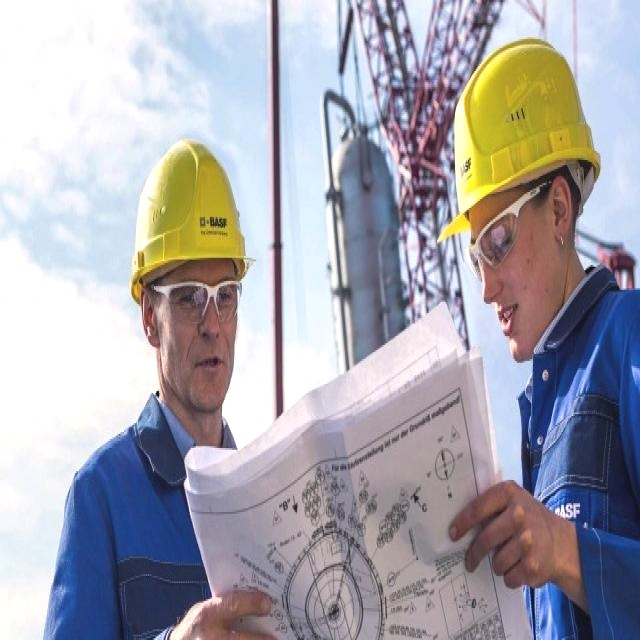Con_Casco: (457, 42, 591, 338), (132, 141, 247, 404)
